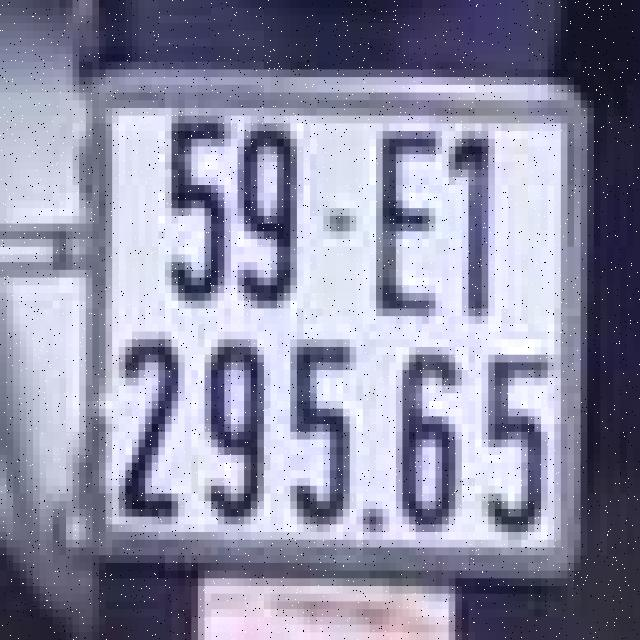1: (449, 127, 508, 328)
2: (99, 312, 185, 536)
5: (478, 347, 571, 547), (280, 324, 360, 547), (152, 104, 231, 320)
6: (393, 332, 465, 540)
9: (234, 108, 314, 324), (205, 328, 277, 536)
E: (360, 108, 452, 324)
